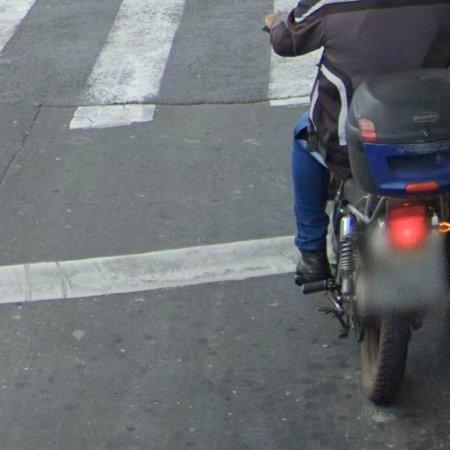crosswalks: (0, 0, 322, 134)
